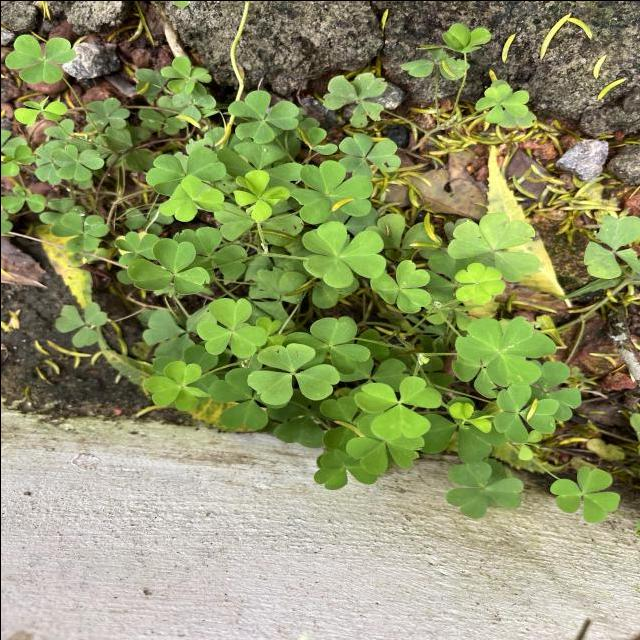Oxalis corniculata: (452, 314, 556, 387), (298, 220, 386, 288), (352, 374, 442, 440), (246, 342, 340, 404), (288, 158, 372, 222), (126, 237, 210, 294), (444, 461, 524, 519), (195, 297, 268, 358), (547, 464, 620, 523), (226, 89, 299, 144), (491, 386, 559, 444), (1, 32, 76, 84), (368, 258, 431, 314), (144, 359, 210, 411), (157, 174, 225, 222), (232, 168, 290, 222), (452, 260, 504, 306), (473, 82, 529, 123), (158, 54, 211, 95), (48, 142, 104, 180)
